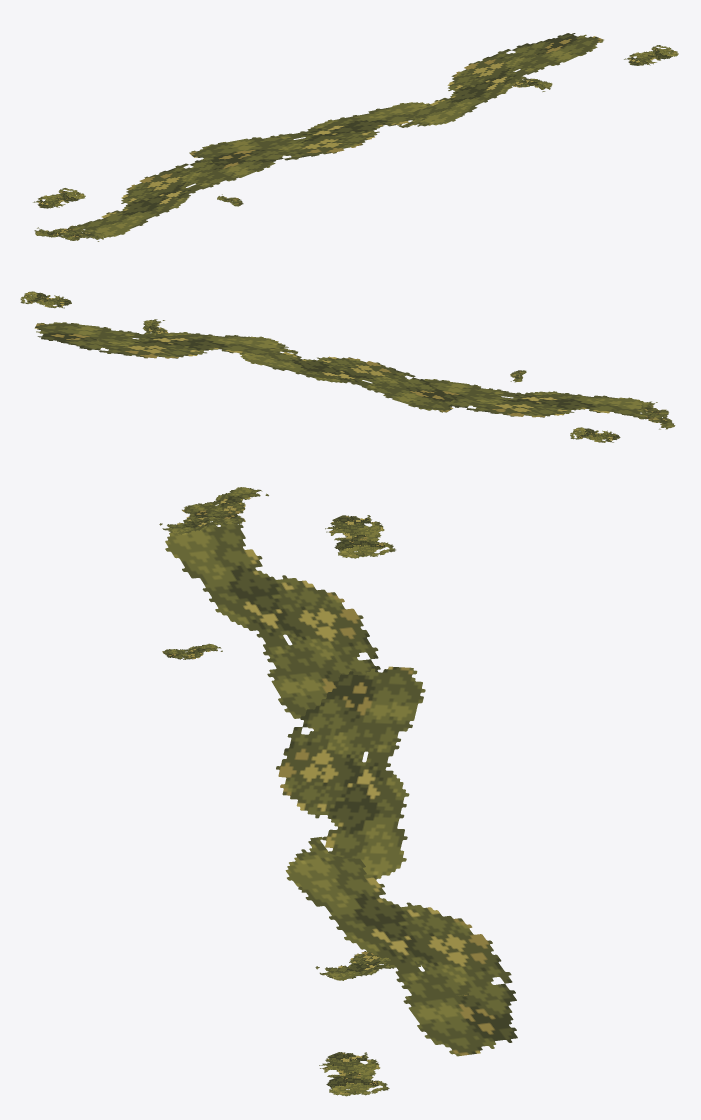
Rendered from SM_SW04_DuckweedBand.fbx.
3 views of the same model, one above another, from view 1: azimuth 30°, elevation 25°; view 2: azimuth 150°, elevation 25°; view 3: azimuth 270°, elevation 25° (orthographic). The views are drawn at different scales.
Visible parts, largest first — view 1: SW04c_Plants; view 2: SW04c_Plants; view 3: SW04c_Plants.
Part boxes in pixels (x1=…): SW04c_Plants: x1=33, y1=33, x2=678, y2=241; SW04c_Plants: x1=20, y1=291, x2=675, y2=442; SW04c_Plants: x1=159, y1=487, x2=517, y2=1096.
Bounding box in the file's own units: 3.46 × 0.00704 × 1.24.
